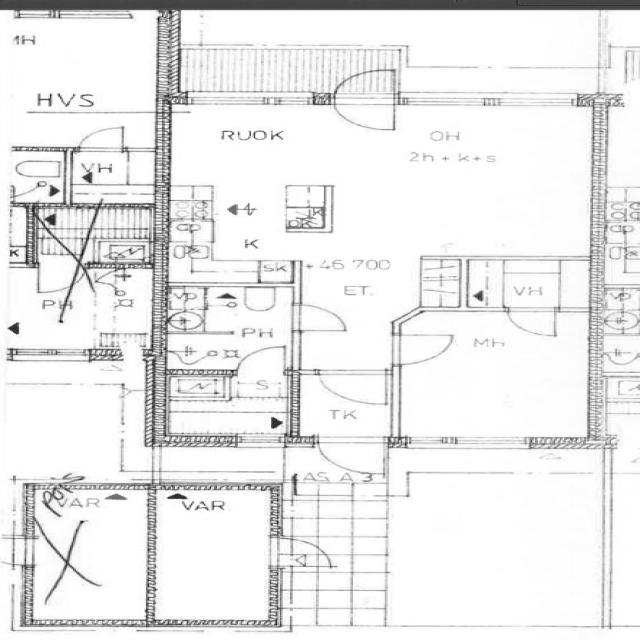door: (329, 68, 400, 132), (312, 434, 389, 478), (312, 368, 396, 407), (388, 332, 457, 365), (288, 302, 353, 335), (271, 536, 336, 569), (232, 343, 291, 377), (501, 306, 561, 339), (70, 123, 130, 155), (30, 263, 82, 297)
window: (400, 434, 541, 455), (178, 93, 318, 111), (6, 345, 95, 366), (54, 6, 135, 25), (0, 533, 39, 570), (401, 94, 491, 110), (492, 94, 579, 110)
zone: (335, 106, 602, 266), (385, 465, 604, 630), (392, 310, 592, 446), (146, 488, 278, 626), (19, 491, 153, 625), (2, 14, 159, 115), (0, 379, 132, 480), (157, 284, 296, 372), (31, 204, 161, 263), (293, 374, 393, 444), (466, 259, 594, 311), (156, 400, 294, 442), (64, 150, 163, 203), (9, 150, 69, 203), (601, 189, 640, 249)
